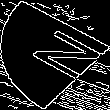N_SE: (10, 24, 100, 86)
